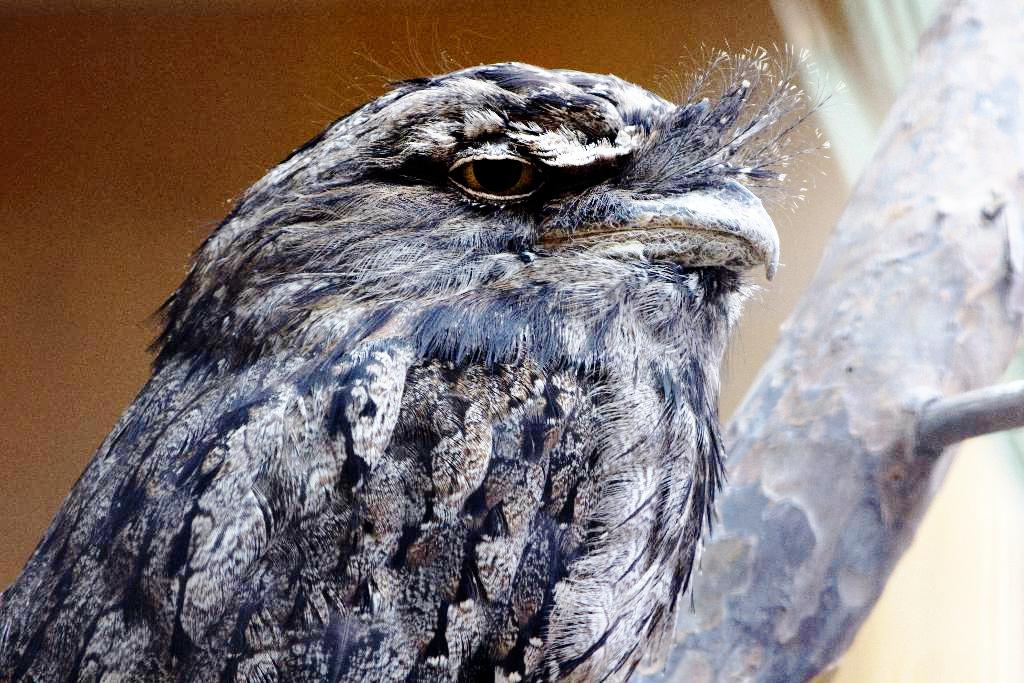Owl: (0, 3, 855, 683)
